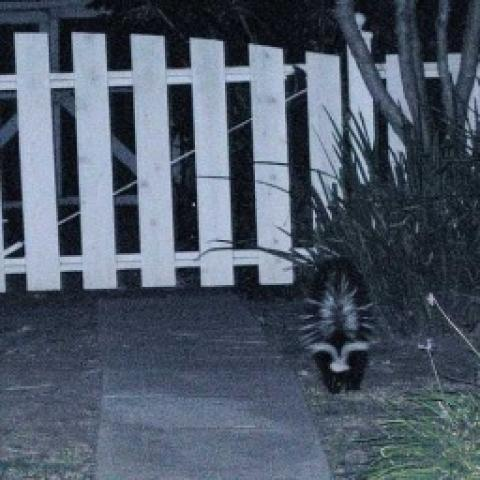small_animal: (296, 253, 377, 394)
